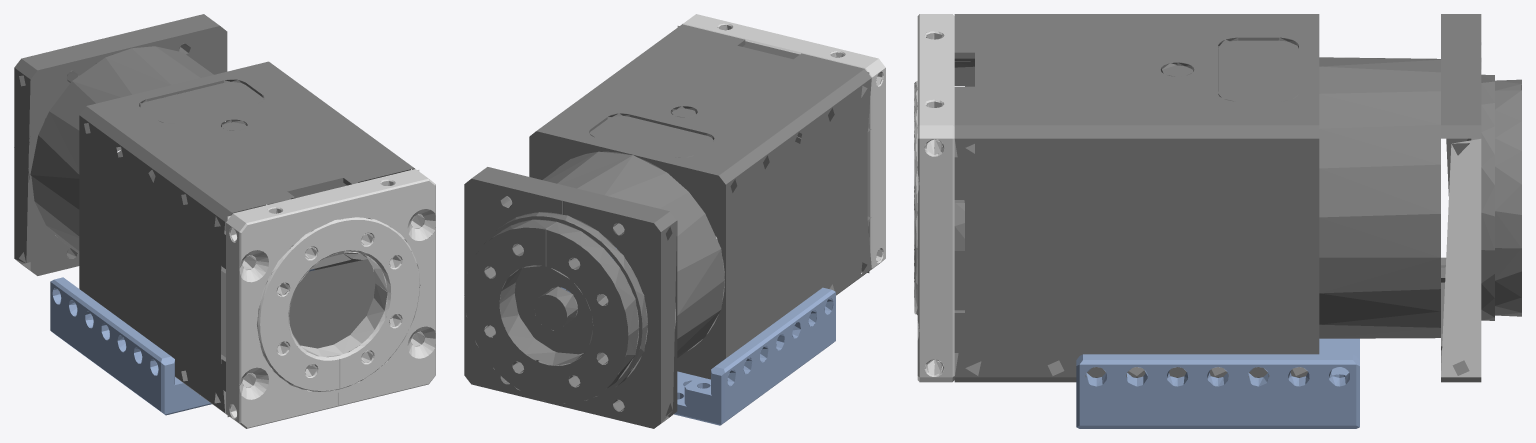
File: robotis_arm_link4.dae
The picture shows the model from 3 angles, left to right: view 1: azimuth 30°, elevation 25°; view 2: azimuth 150°, elevation 25°; view 3: azimuth 270°, elevation 25°; orthographic projection. The views are drawn at different scales.
Visible parts, largest first — view 1: Untitled_001, Untitled, Untitled_004, Untitled_009, Untitled_005, Untitled_007; view 2: Untitled_001, Untitled_004, Untitled_009, Untitled, Untitled_007; view 3: Untitled_001, Untitled_002, Untitled_009, Untitled, Untitled_008, Untitled_004.
Boxes of the visible parts, bbox=[...] form: Untitled_001: bbox=[14, 14, 414, 414]; Untitled: bbox=[226, 169, 435, 428]; Untitled_004: bbox=[79, 115, 224, 412]; Untitled_009: bbox=[50, 269, 314, 415]; Untitled_005: bbox=[227, 258, 375, 416]; Untitled_007: bbox=[14, 68, 30, 262]; Untitled_001: bbox=[464, 24, 871, 428]; Untitled_004: bbox=[726, 78, 871, 357]; Untitled_009: bbox=[561, 247, 835, 425]; Untitled: bbox=[682, 14, 885, 272]; Untitled_007: bbox=[661, 220, 677, 422]; Untitled_001: bbox=[954, 14, 1521, 382]; Untitled_002: bbox=[955, 138, 1319, 377]; Untitled_009: bbox=[1076, 338, 1359, 428]; Untitled: bbox=[914, 14, 954, 382]; Untitled_008: bbox=[1441, 139, 1481, 377]; Untitled_004: bbox=[965, 37, 1307, 155].
Size of the model in its own units: 0.048 by 0.09 by 0.048.
